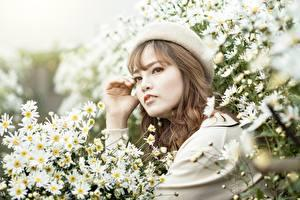chamomile: (74, 155, 142, 189), (19, 134, 70, 171), (2, 158, 35, 200), (219, 38, 250, 68), (245, 103, 278, 131), (32, 172, 66, 198), (66, 172, 96, 198), (223, 82, 246, 107), (20, 104, 42, 124), (62, 109, 82, 130), (6, 134, 25, 152), (80, 101, 99, 118), (42, 118, 61, 135), (19, 122, 42, 135), (0, 114, 12, 135)
